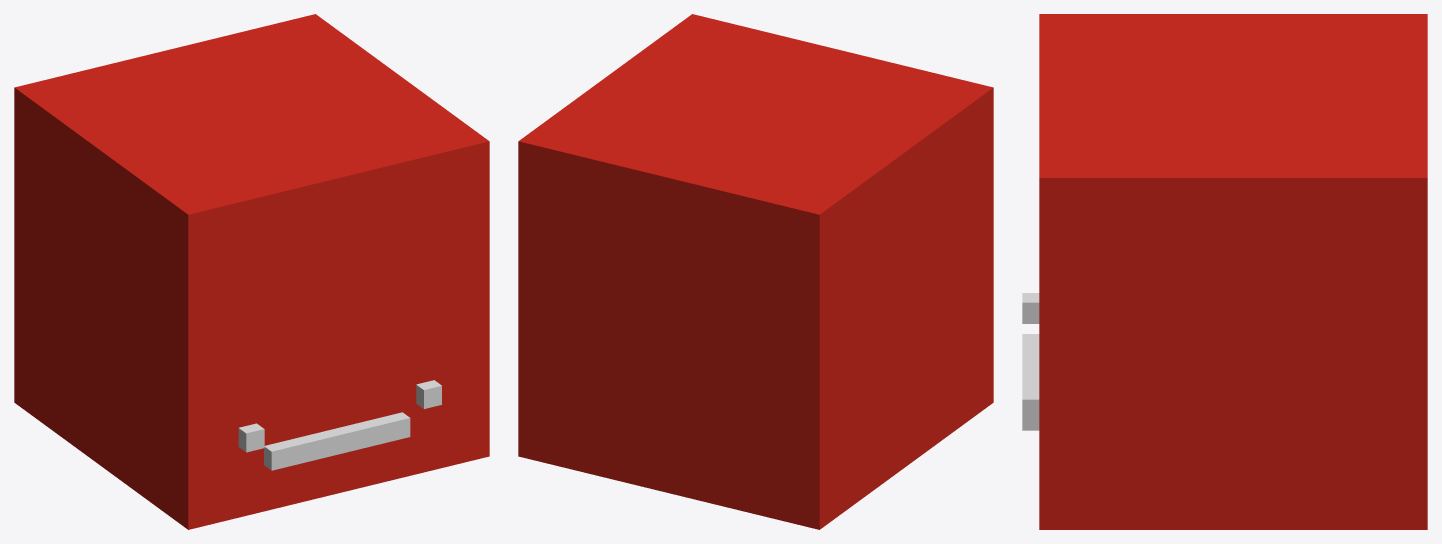
3 renders of one model, left to right at view 1: azimuth 30°, elevation 25°; view 2: azimuth 150°, elevation 25°; view 3: azimuth 270°, elevation 25°, orthographic. The views are drawn at different scales.
Parts seen in each view (by area): view 1: Cube, Cube.003, Cube.001, Cube.002; view 2: Cube; view 3: Cube, Cube.003, Cube.002, Cube.001.
Part boxes in pixels (bbox=[...]): Cube: bbox=[14, 14, 489, 529]; Cube.003: bbox=[264, 412, 410, 470]; Cube.001: bbox=[238, 423, 264, 452]; Cube.002: bbox=[416, 380, 441, 408]; Cube: bbox=[518, 14, 993, 529]; Cube: bbox=[1039, 14, 1427, 529]; Cube.003: bbox=[1022, 334, 1039, 430]; Cube.002: bbox=[1022, 389, 1039, 420]; Cube.001: bbox=[1022, 293, 1039, 323].
Size of the model in its own units: 2 by 2 by 2.09.
